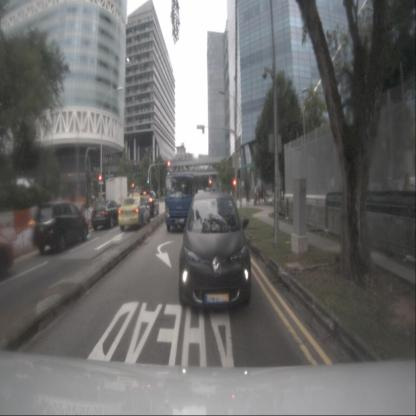barrier: (0, 211, 17, 241), (15, 207, 32, 236), (30, 204, 42, 233)
